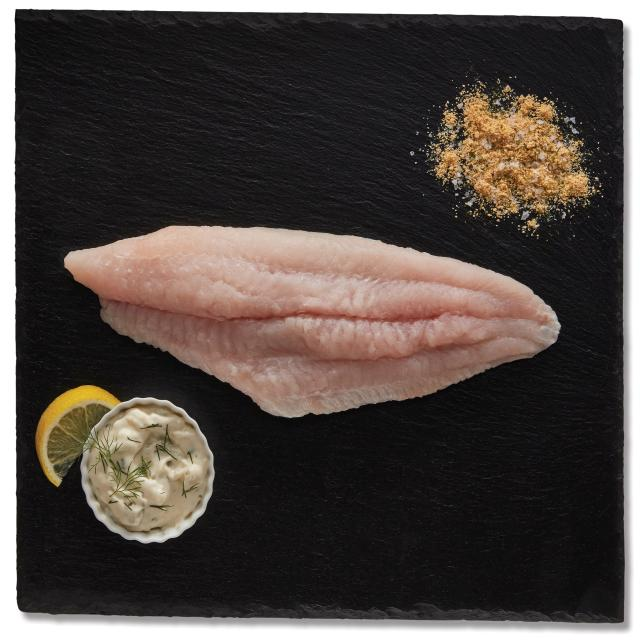Catfish: (70, 223, 556, 389)
lemon: (40, 381, 121, 491)
